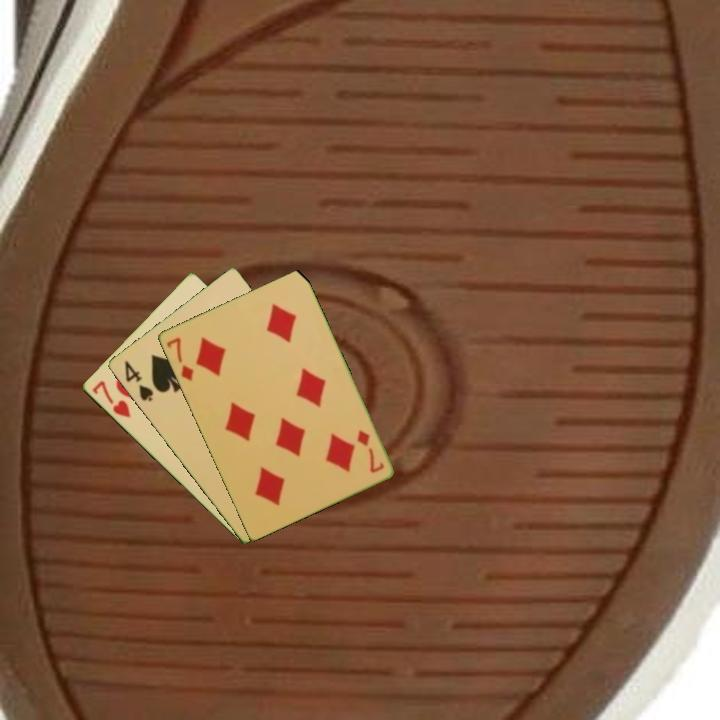4s: (120, 357, 156, 404)
7d: (353, 426, 387, 476), (163, 334, 196, 384)
7h: (88, 377, 133, 421)
